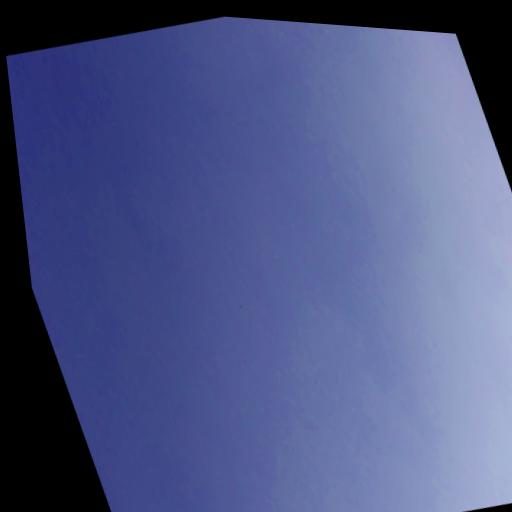drones: (238, 303, 244, 311)
